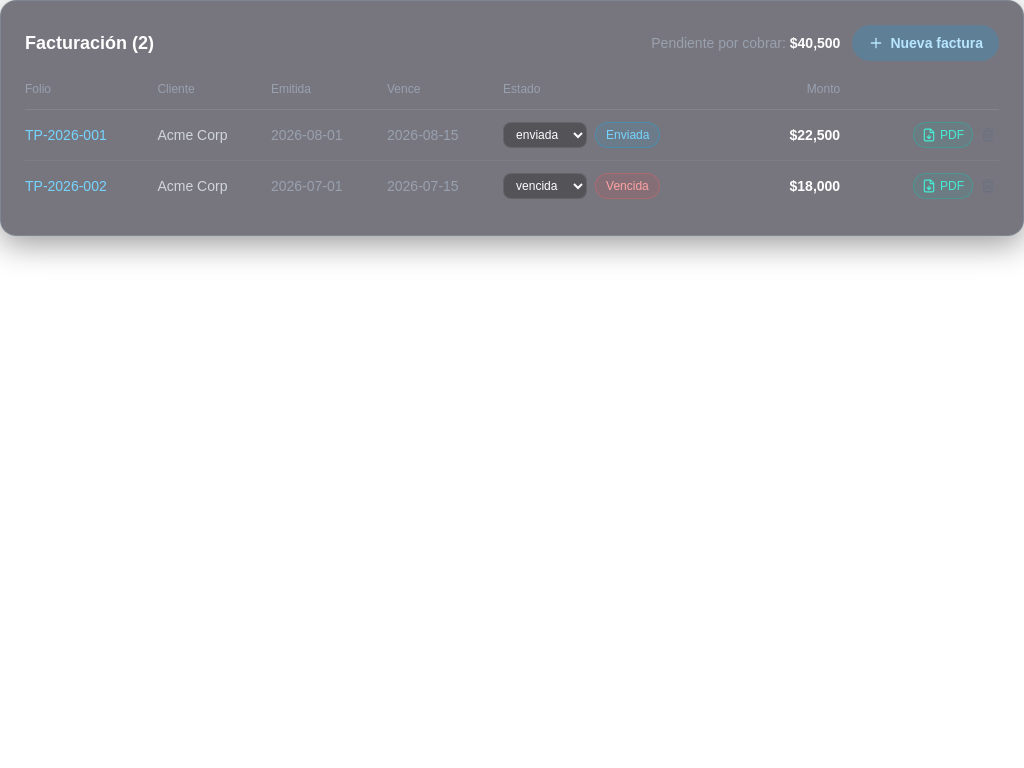
Test: InvoicesSection › opens a detail modal from the folio, with view + edit
The width and height of the screenshot is (1024, 768).
Expected: the number of buttons named "descargar pdf de" is 2, [913,122,973,148]; [913,173,973,199]
Click the button "TP-2026-001": (66, 135) [25,125,107,145]
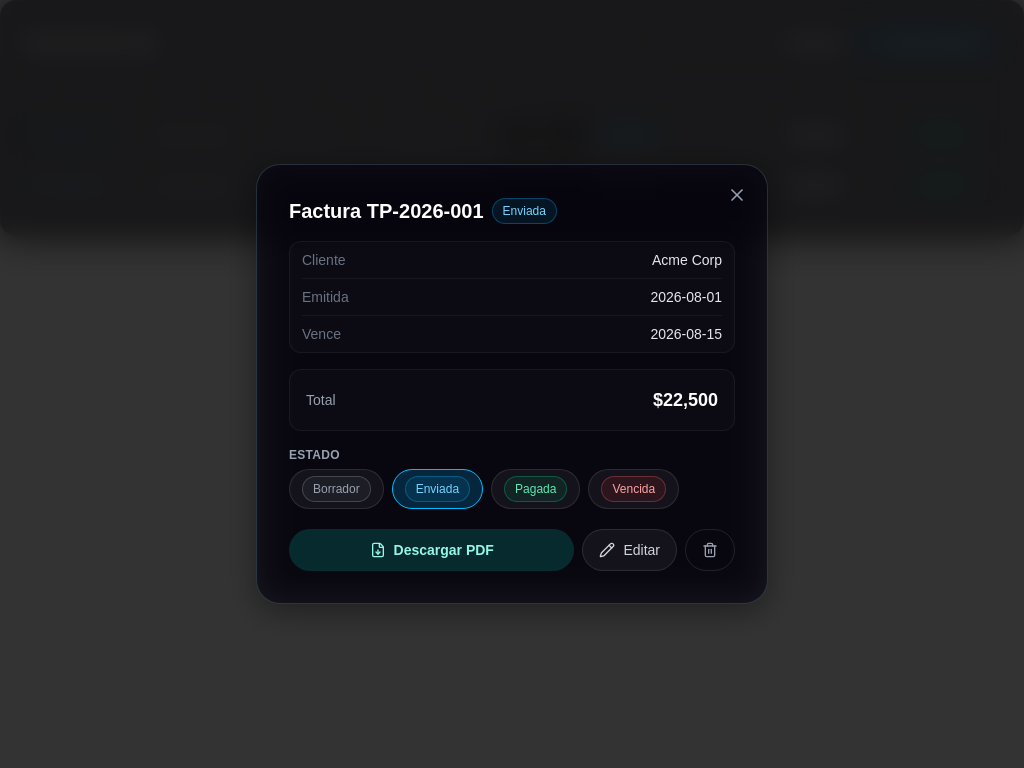
Now the text "Acme Corp" is shown, box [652,250,722,270]
Click the button "Editar": (630, 550) [582,529,677,571]
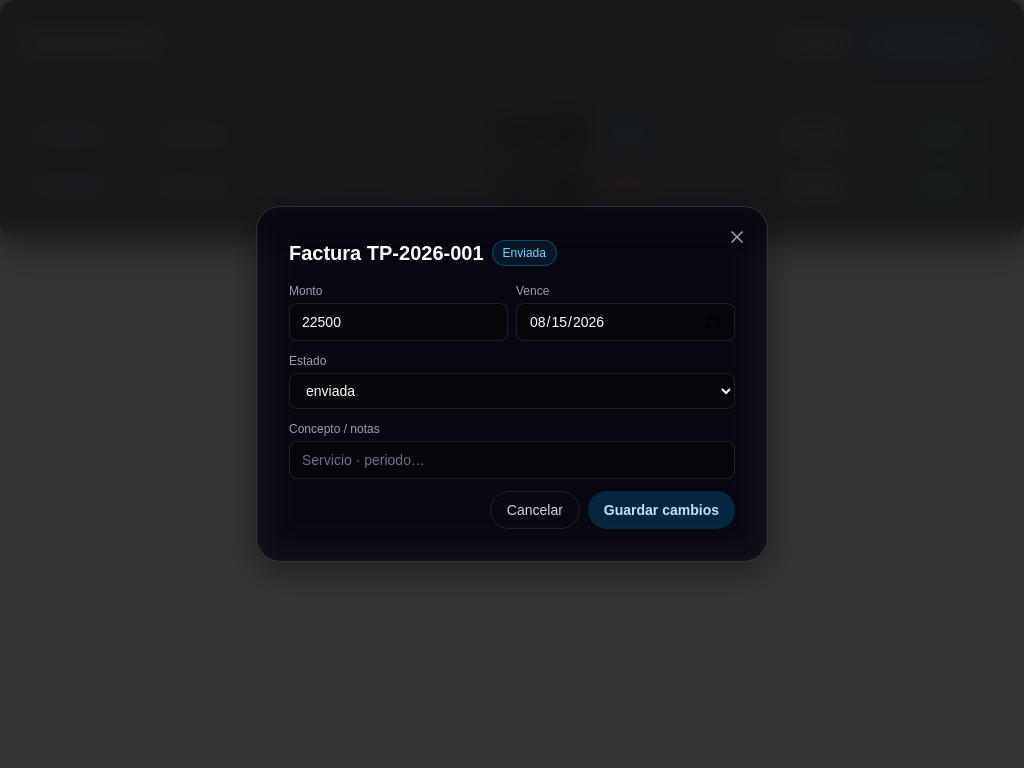
Now the number field showing "22500" is shown, box [289,303,508,341]
Now the button "Guardar cambios" is shown, box [588,491,735,529]
